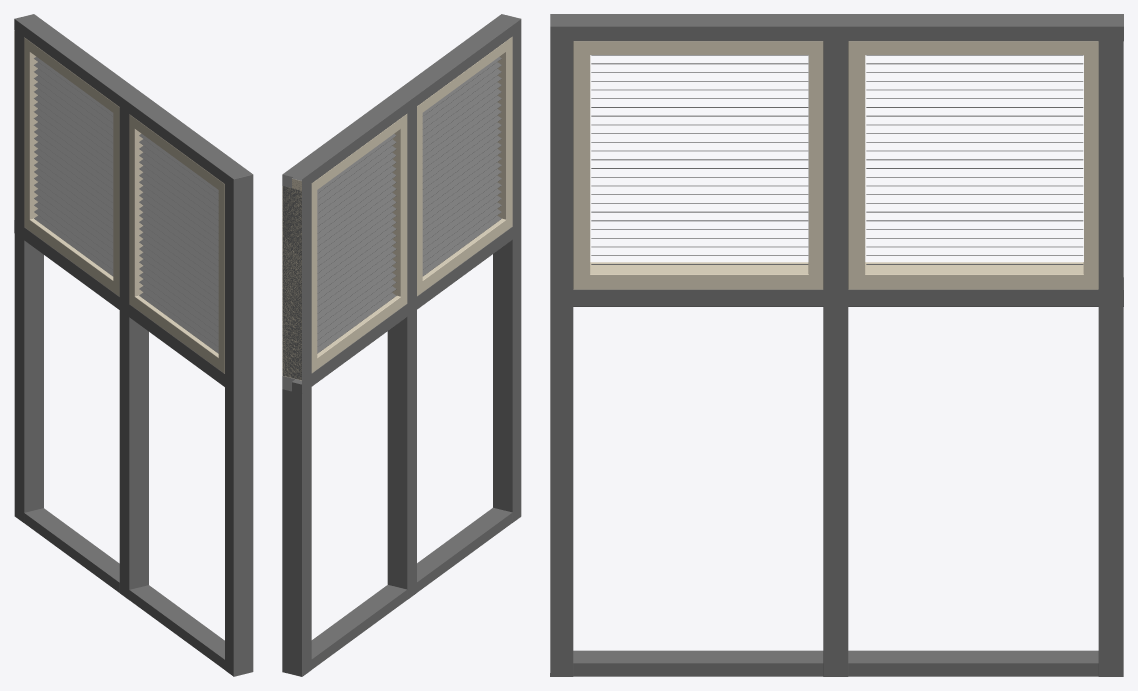
Rendered from SmallWindow.fbx.
3 views of the same model, side by side, from view 1: azimuth 30°, elevation 25°; view 2: azimuth 150°, elevation 25°; view 3: azimuth 270°, elevation 25° (orthographic). The views are drawn at different scales.
Parts seen in each view (by area): view 1: SmallWindow; view 2: SmallWindow; view 3: SmallWindow.
Part boxes in pixels (x1=…): SmallWindow: x1=14, y1=14, x2=253, y2=676; SmallWindow: x1=282, y1=14, x2=521, y2=676; SmallWindow: x1=550, y1=14, x2=1123, y2=676.
Size of the model in its own units: 10.12 by 240 by 192.
